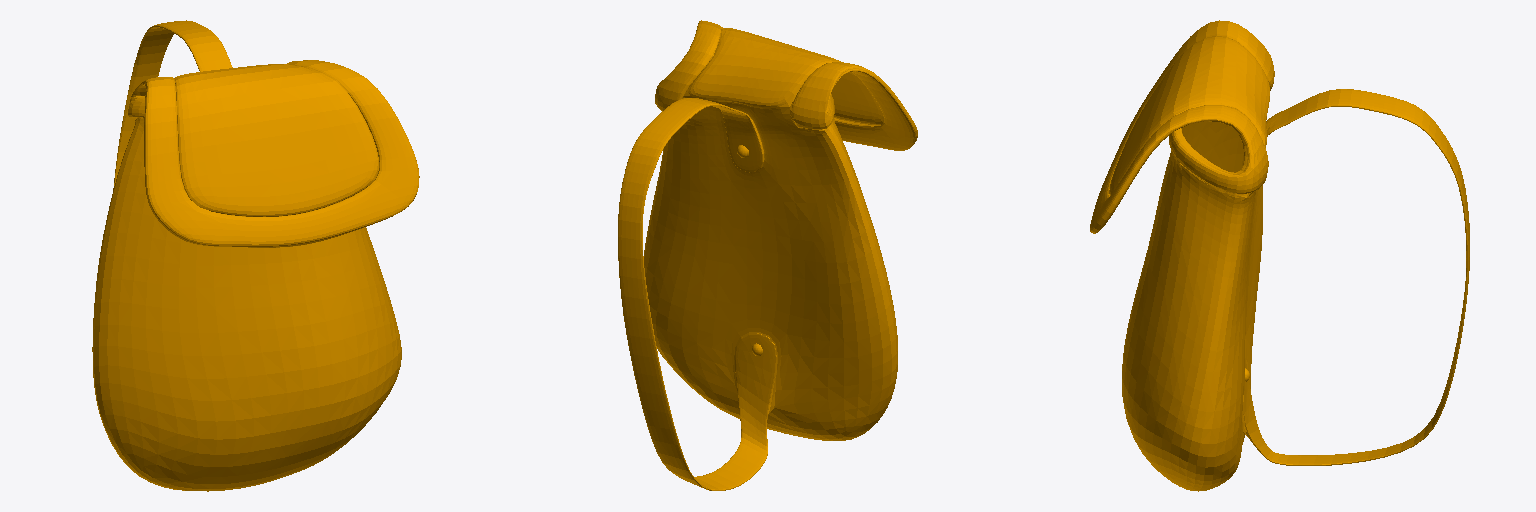
URDF robot description (none):
<robot name="none">
       <link name="none">
           <visual>
               <origin rpy="1.57 0 0" xyz="0 0 0" />
               <geometry>
                   <mesh filename="backpack.obj" />
               </geometry>
           </visual>
          <collision>
              <geometry>
                  <box size="0.723316 1.000000 0.841406" />
              </geometry>
          </collision>

          <inertial>
            <mass value="0.0" />
            <inertia ixx="0.0" ixy="0.0" ixz="0.0" iyy="0.0" iyz="0.0" izz="0.0" />
          </inertial>
      </link>
  </robot>

--- What the picture shows (computed from the rendered views, not written in the file) ---
The picture shows the robot from 3 angles, left to right: view 1: azimuth 30°, elevation 25°; view 2: azimuth 150°, elevation 25°; view 3: azimuth 270°, elevation 25°; orthographic projection.
Robot: none — 1 links, 0 joints (none); root link none; default pose: all joints at 0.
Visible links, largest first — view 1: none; view 2: none; view 3: none.
Boxes of the visible links, <box> form: none: <box>92,20,419,491</box>; none: <box>618,20,917,490</box>; none: <box>1090,20,1469,491</box>.
Size in the robot's own frame: 0.7233 by 0.8413 by 1 metres.
Meshes: 1 distinct files referenced, 1 mesh visuals loaded (1 OBJ).